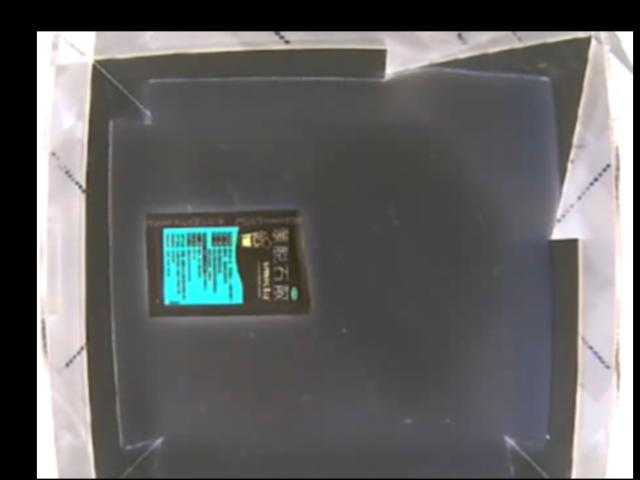Medicine: (143, 208, 311, 320)
